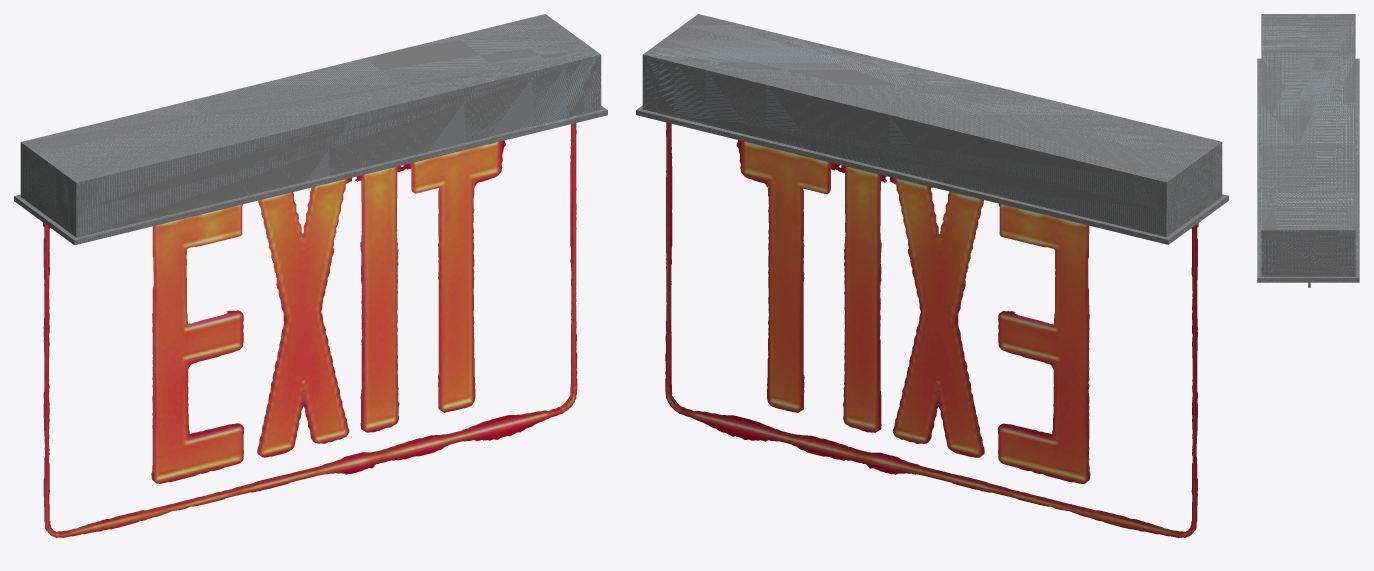
Rendered from EXIT+SIGN.dae.
3 renders of one model, left to right at view 1: azimuth 30°, elevation 25°; view 2: azimuth 150°, elevation 25°; view 3: azimuth 270°, elevation 25°, orthographic. The views are drawn at different scales.
Parts seen in each view (by area): view 1: group_1 (×2), group_2; view 2: group_1 (×2), group_2; view 3: group_1 (×2).
Part boxes in pixels (left/top/right/bottom): group_1 (×2): left=14, top=14, right=607, bottom=245; group_2: left=43, top=123, right=577, bottom=537; group_1 (×2): left=636, top=14, right=1228, bottom=244; group_2: left=665, top=122, right=1198, bottom=537; group_1 (×2): left=1257, top=14, right=1359, bottom=282.
Bounding box in the file's own units: 14 × 2.75 × 9.96.
